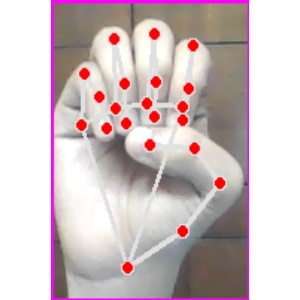E: (53, 2, 249, 300)
